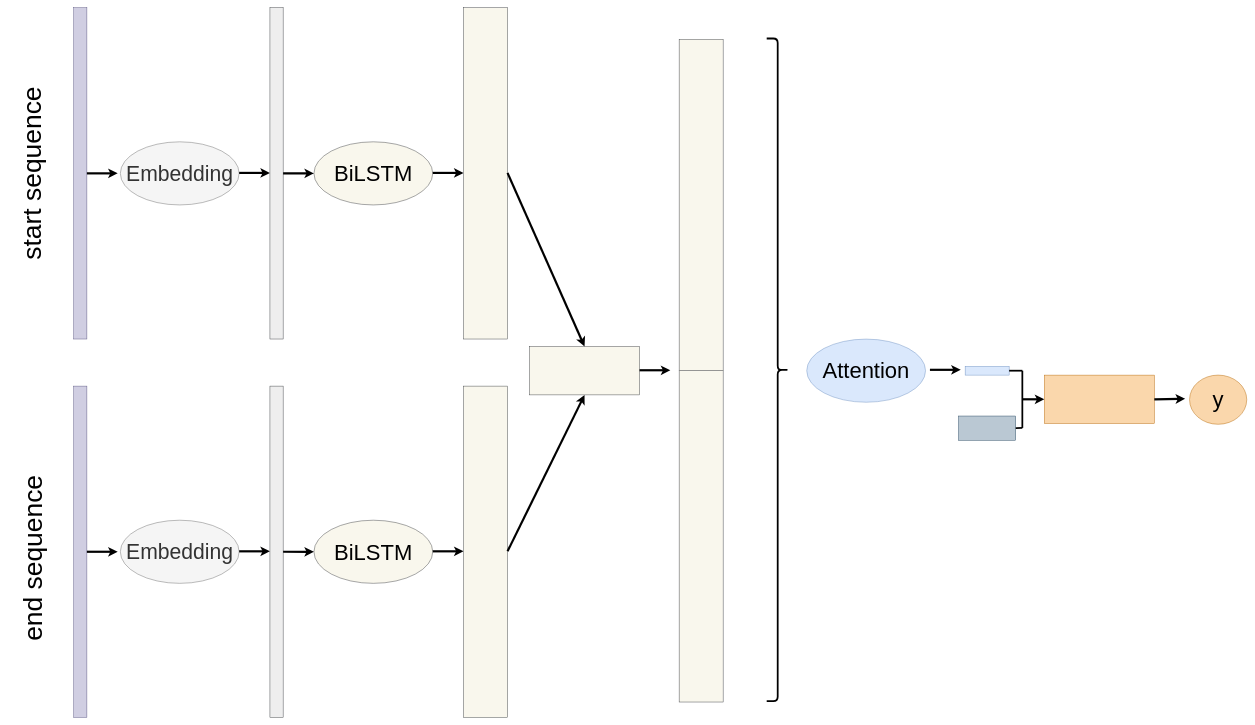
This 1255x725 diagram has some shape labels left out. The centre of each missing label's shape, as x and y in pixels:
"concat" goes at point (584, 370).
"Lens" goes at point (987, 428).
"MLP" goes at point (1099, 399).
